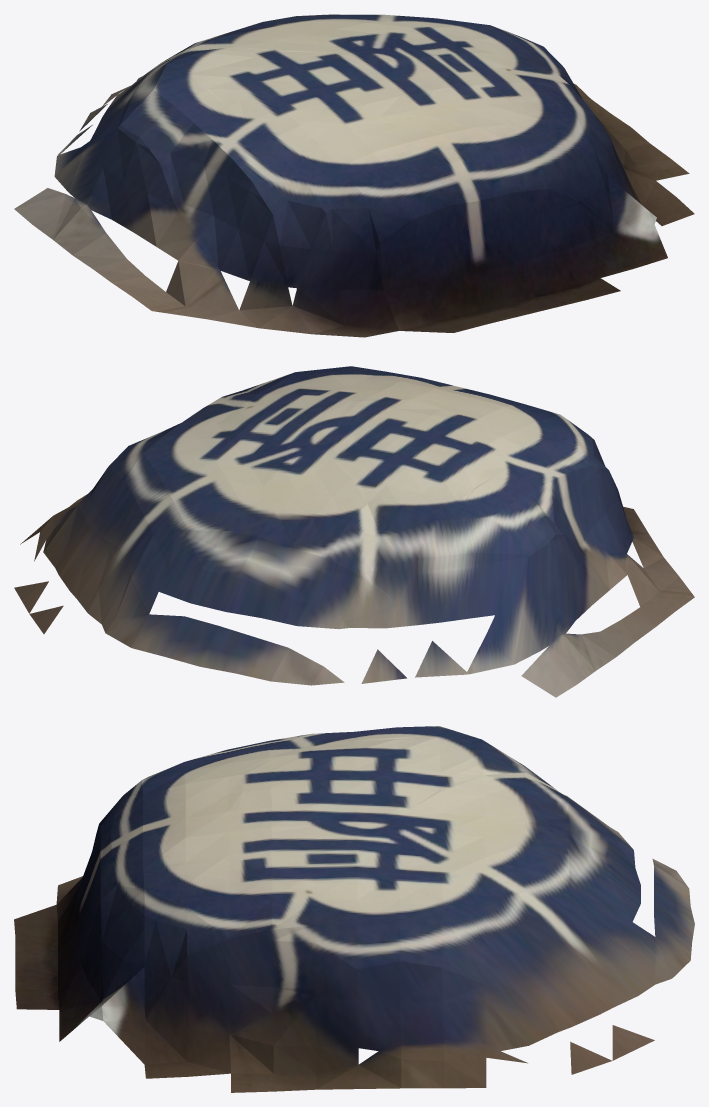
Rendered from hsnu.glb.
3 views of the same model, one above another, from view 1: azimuth 30°, elevation 25°; view 2: azimuth 150°, elevation 25°; view 3: azimuth 270°, elevation 25° (orthographic). The views are drawn at different scales.
Size of the model in its own units: 0.482 by 0.12 by 0.48.
1 material, 1 textured.
